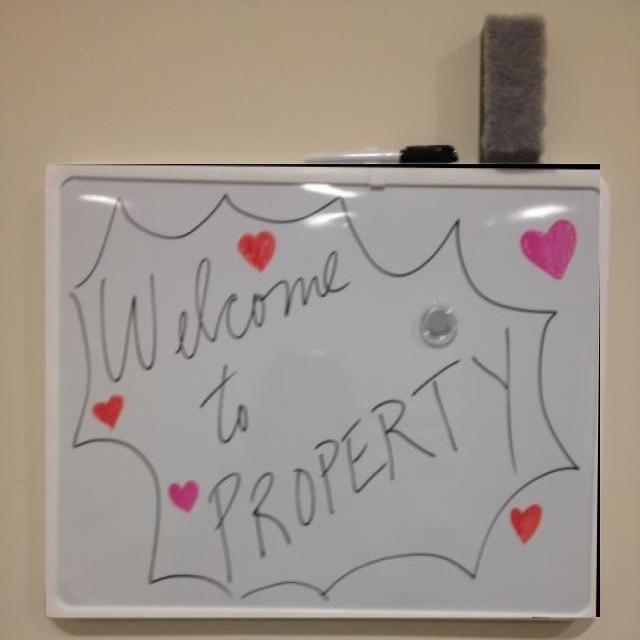White-board: (54, 171, 601, 616)
